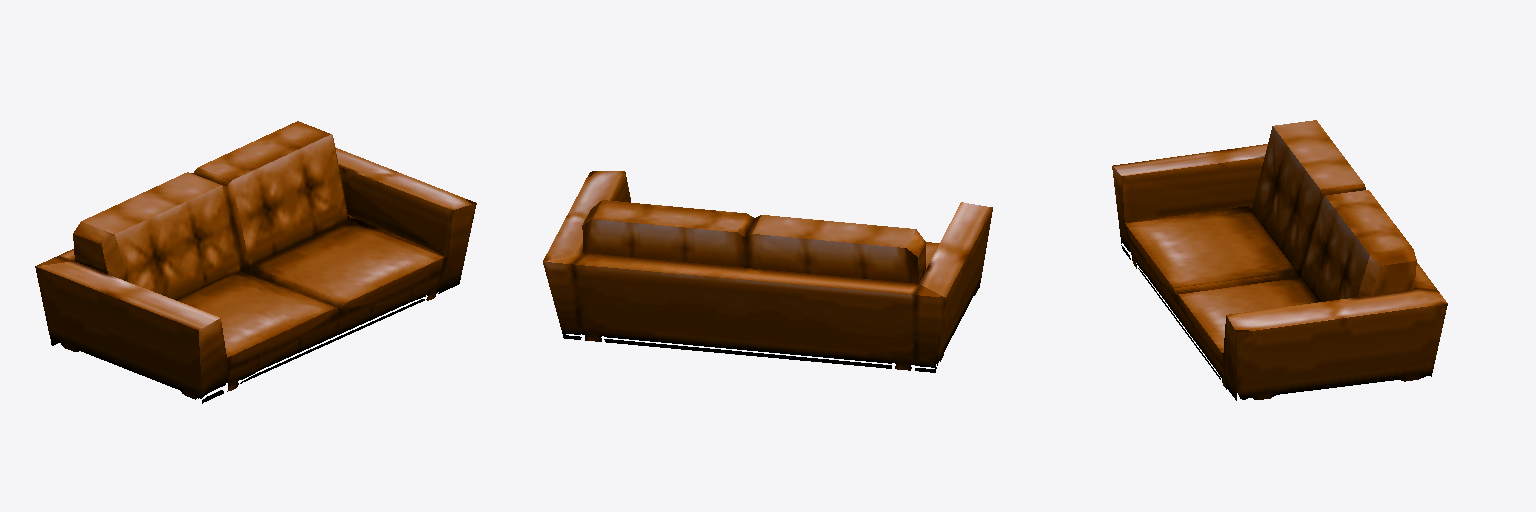
3 renders of one model, left to right at view 1: azimuth 30°, elevation 25°; view 2: azimuth 150°, elevation 25°; view 3: azimuth 270°, elevation 25°, orthographic.
Parts seen in each view (by area): view 1: 立方体_立方体.001; view 2: 立方体_立方体.001; view 3: 立方体_立方体.001.
Part boxes in pixels (left/top/right/bottom): 立方体_立方体.001: left=35, top=121, right=476, bottom=403; 立方体_立方体.001: left=543, top=171, right=992, bottom=372; 立方体_立方体.001: left=1112, top=120, right=1447, bottom=400.
Size of the model in its own units: 8.45 by 2.41 by 6.17.
1 materials, 1 textured.